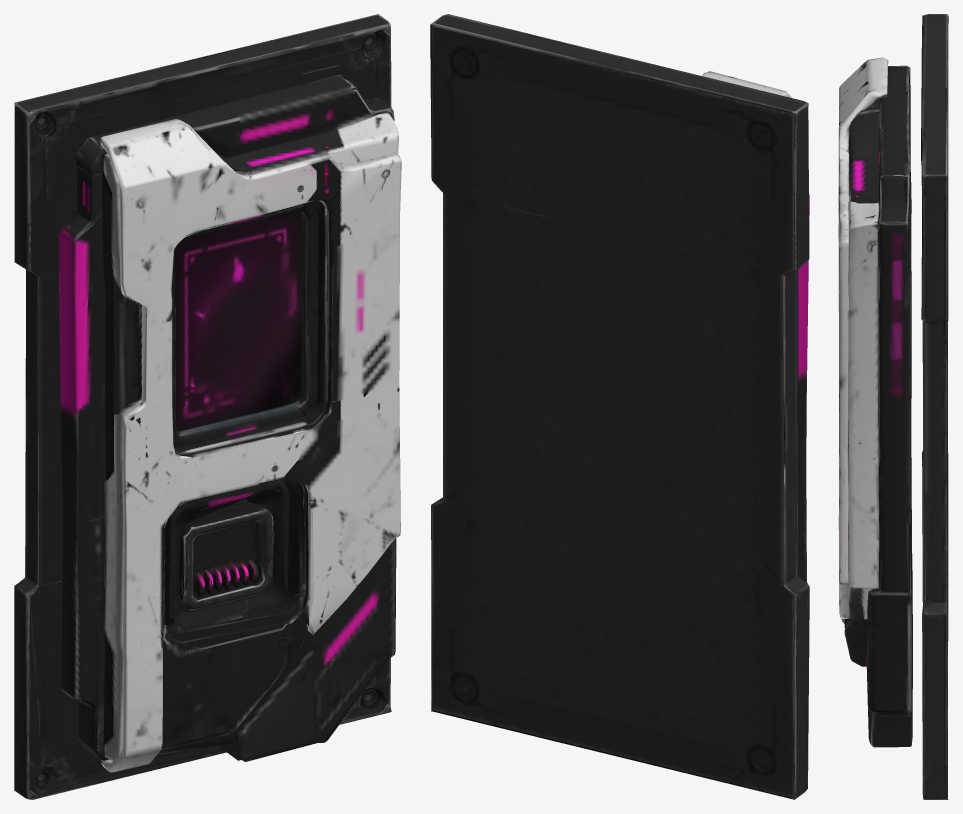
File: access_point.glb
The picture shows the model from 3 angles, left to right: view 1: azimuth 30°, elevation 25°; view 2: azimuth 150°, elevation 25°; view 3: azimuth 270°, elevation 25°; orthographic projection. The views are drawn at different scales.
Size of the model in its own units: 0.5586 by 1 by 0.1597.
1 material, 1 textured.
